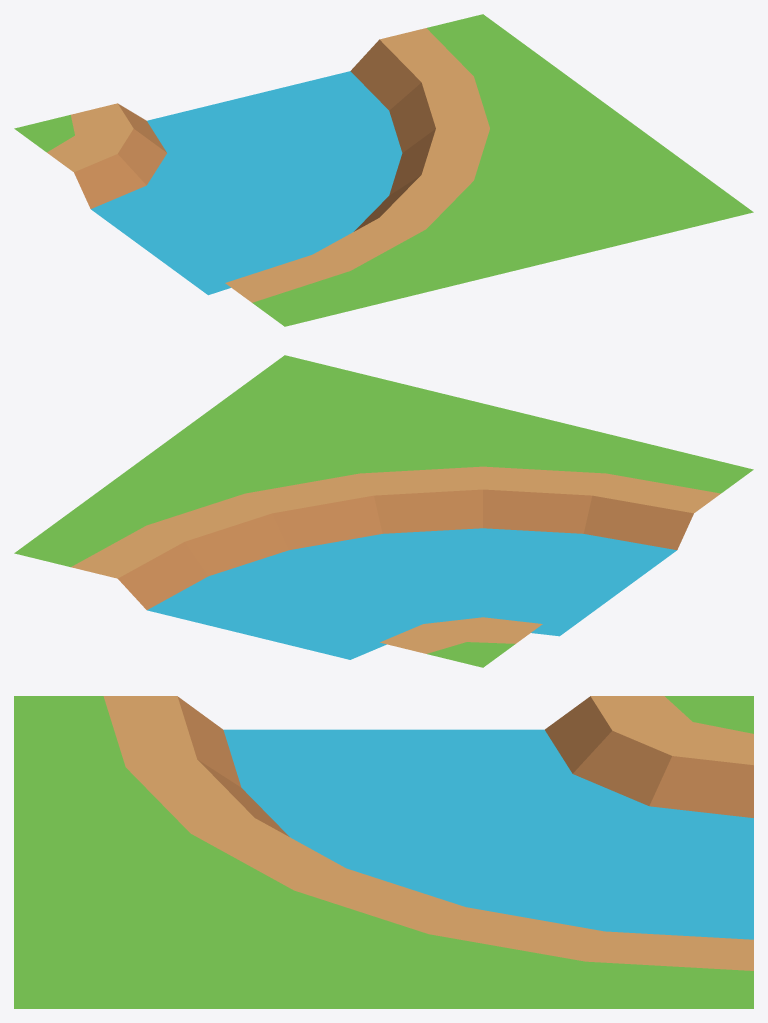
The model's file is river-bend.glb.
3 renders of one model, top to bottom at view 1: azimuth 30°, elevation 25°; view 2: azimuth 150°, elevation 25°; view 3: azimuth 270°, elevation 25°, orthographic. The views are drawn at different scales.
Visible parts, largest first — view 1: ground_riverBend; view 2: ground_riverBend; view 3: ground_riverBend.
Boxes of the visible parts, x1=… form: ground_riverBend: x1=14, y1=14, x2=753, y2=326; ground_riverBend: x1=14, y1=355, x2=753, y2=667; ground_riverBend: x1=14, y1=696, x2=753, y2=1008.
Bounding box in the file's own units: 4 × 0.2002 × 4.
